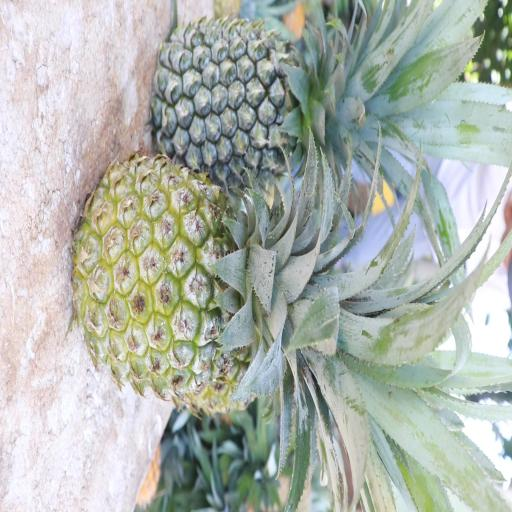------------------------------: (68, 149, 358, 405)
